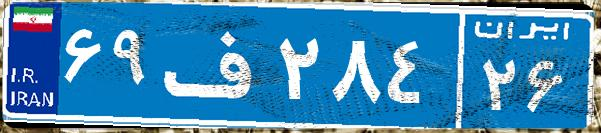2: (273, 28, 330, 110), (475, 38, 525, 113)
4: (385, 28, 445, 110)
6: (57, 26, 110, 107), (525, 38, 570, 115)
8: (330, 28, 385, 110)
9: (110, 28, 158, 105)
ف: (158, 15, 273, 115)
